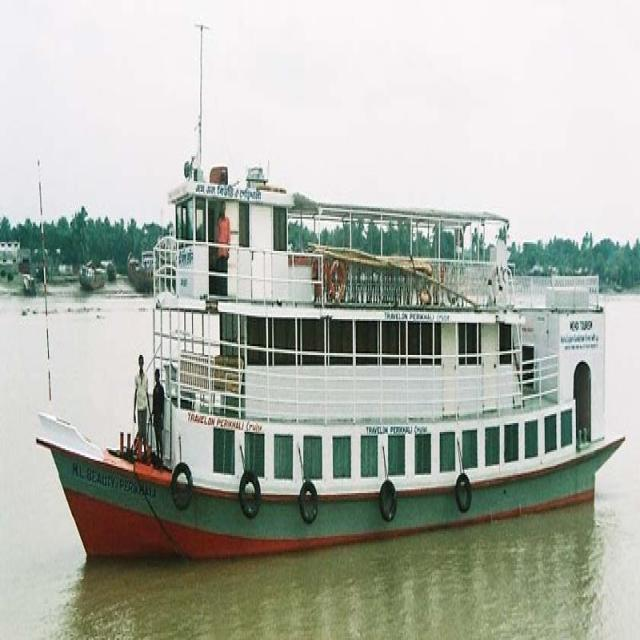fishing boat: (41, 141, 617, 537)
